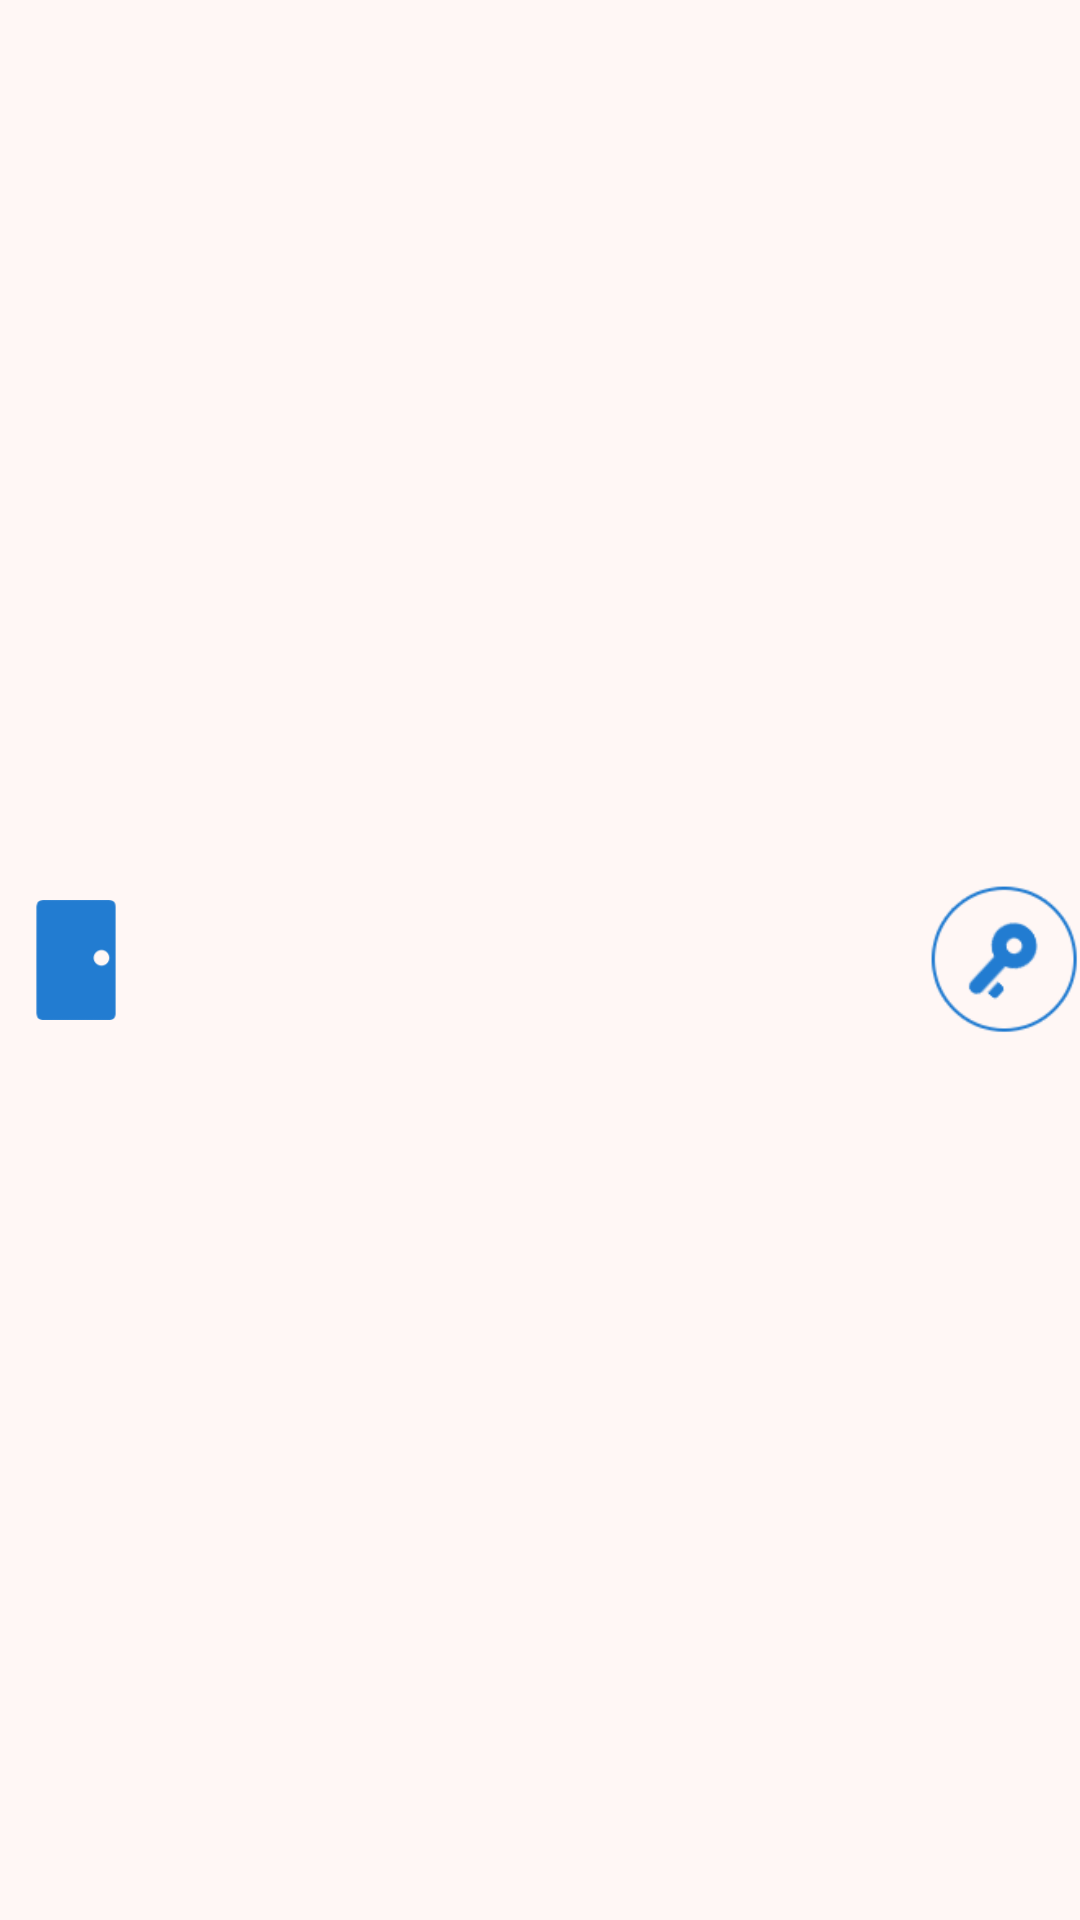

Screen size 1080x1920. Icon name, then its center in pixels as point (x, y):
acs open: point (1004, 959)
door mj: point (76, 960)
